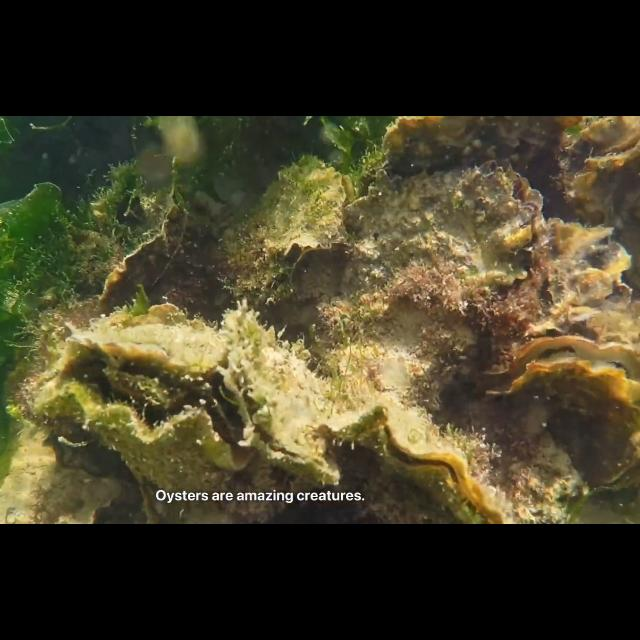Oyster-Closed: (378, 115, 566, 212), (96, 192, 222, 318)
Oyster-Open: (338, 157, 546, 410), (37, 322, 257, 498), (314, 399, 514, 525), (225, 307, 341, 488), (556, 116, 640, 302), (478, 337, 640, 427), (536, 215, 634, 328), (0, 455, 124, 525), (264, 165, 346, 268), (214, 209, 296, 309), (586, 431, 640, 495), (131, 467, 173, 525)
